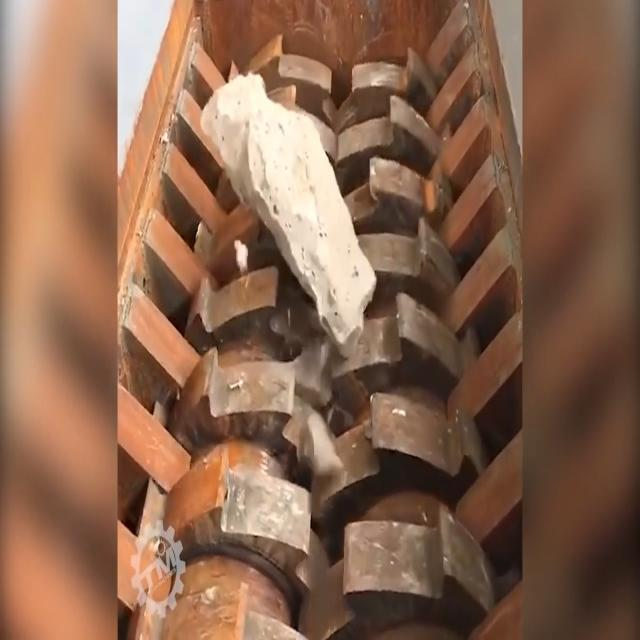Broyeur: (119, 0, 524, 640)
